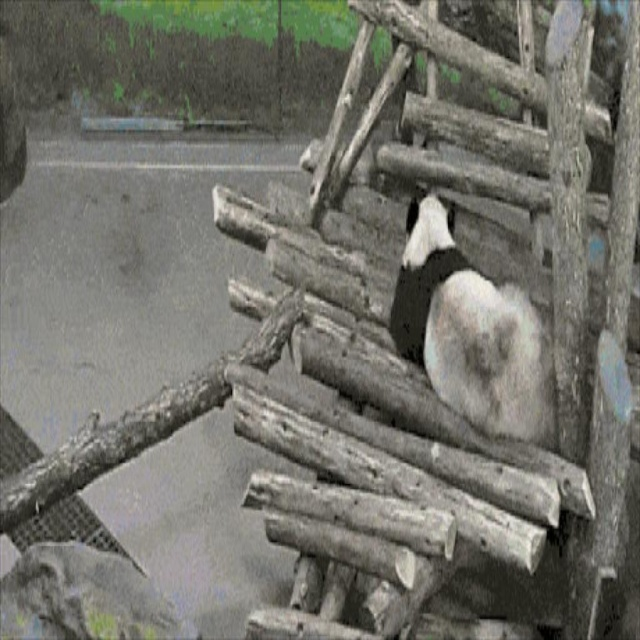Panda: (390, 201, 555, 450)
